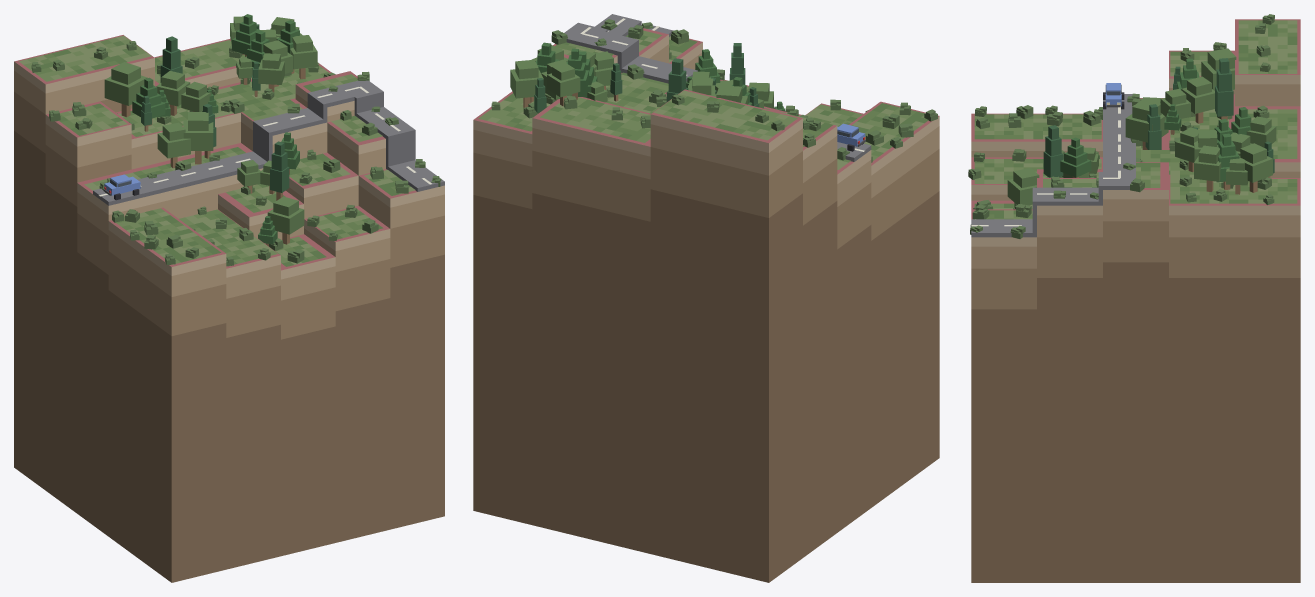
Rendered from block_21_engineered_15.glb.
The picture shows the model from 3 angles, left to right: view 1: azimuth 30°, elevation 25°; view 2: azimuth 150°, elevation 25°; view 3: azimuth 270°, elevation 25°; orthographic projection. The views are drawn at different scales.
Visible parts, largest first — view 1: Patch_UpperRight_b22_ES, Green_UpperRight_b21_ES, Roads_UpperRight_b22_ES, URTree_21_6_ES, URTree_21_3_ES, URTree_21_13_ES, URTree_21_8_ES, URTree_21_11_ES, URTree_21_23_ES, URTree_21_10_ES, URTree_21_26_ES, URTree_21_2_ES (+5 smaller); view 2: Patch_UpperRight_b22_ES, Green_UpperRight_b21_ES, Roads_UpperRight_b22_ES, URTree_21_25_ES, URTree_21_17_ES, URTree_21_7_ES; view 3: Patch_UpperRight_b22_ES, Green_UpperRight_b21_ES, Roads_UpperRight_b22_ES, URTree_21_3_ES, URTree_21_25_ES, URTree_21_10_ES, URTree_21_7_ES, URTree_21_23_ES, URTree_21_13_ES, URTree_21_11_ES, URTree_21_15_ES, URTree_21_6_ES (+7 smaller).
Boxes of the visible parts, <box> form: Patch_UpperRight_b22_ES: <box>14,35,444,582</box>; Green_UpperRight_b21_ES: <box>19,35,415,266</box>; Roads_UpperRight_b22_ES: <box>93,80,444,205</box>; URTree_21_6_ES: <box>104,62,147,117</box>; URTree_21_3_ES: <box>183,112,213,164</box>; URTree_21_13_ES: <box>267,196,304,244</box>; URTree_21_8_ES: <box>157,122,190,168</box>; URTree_21_11_ES: <box>270,141,289,200</box>; URTree_21_23_ES: <box>290,35,317,79</box>; URTree_21_10_ES: <box>156,71,190,115</box>; URTree_21_26_ES: <box>258,53,284,92</box>; URTree_21_2_ES: <box>132,77,165,125</box>; Patch_UpperRight_b22_ES: <box>473,28,939,582</box>; Green_UpperRight_b21_ES: <box>478,30,928,169</box>; Roads_UpperRight_b22_ES: <box>564,14,871,161</box>; URTree_21_25_ES: <box>510,59,543,107</box>; URTree_21_17_ES: <box>547,63,580,106</box>; URTree_21_7_ES: <box>666,58,688,102</box>; Patch_UpperRight_b22_ES: <box>971,19,1300,582</box>; Green_UpperRight_b21_ES: <box>974,20,1297,219</box>; Roads_UpperRight_b22_ES: <box>971,94,1135,237</box>; URTree_21_3_ES: <box>1125,99,1168,149</box>; URTree_21_25_ES: <box>1239,143,1272,192</box>; URTree_21_10_ES: <box>1181,76,1214,123</box>; URTree_21_7_ES: <box>1215,58,1233,120</box>; URTree_21_23_ES: <box>1194,145,1221,191</box>; URTree_21_13_ES: <box>1007,168,1039,205</box>; URTree_21_11_ES: <box>1043,125,1063,177</box>; URTree_21_15_ES: <box>1060,137,1091,177</box>; URTree_21_6_ES: <box>1201,48,1236,90</box>.
Bounding box in the file's own units: 9.78 × 14.16 × 9.59.
